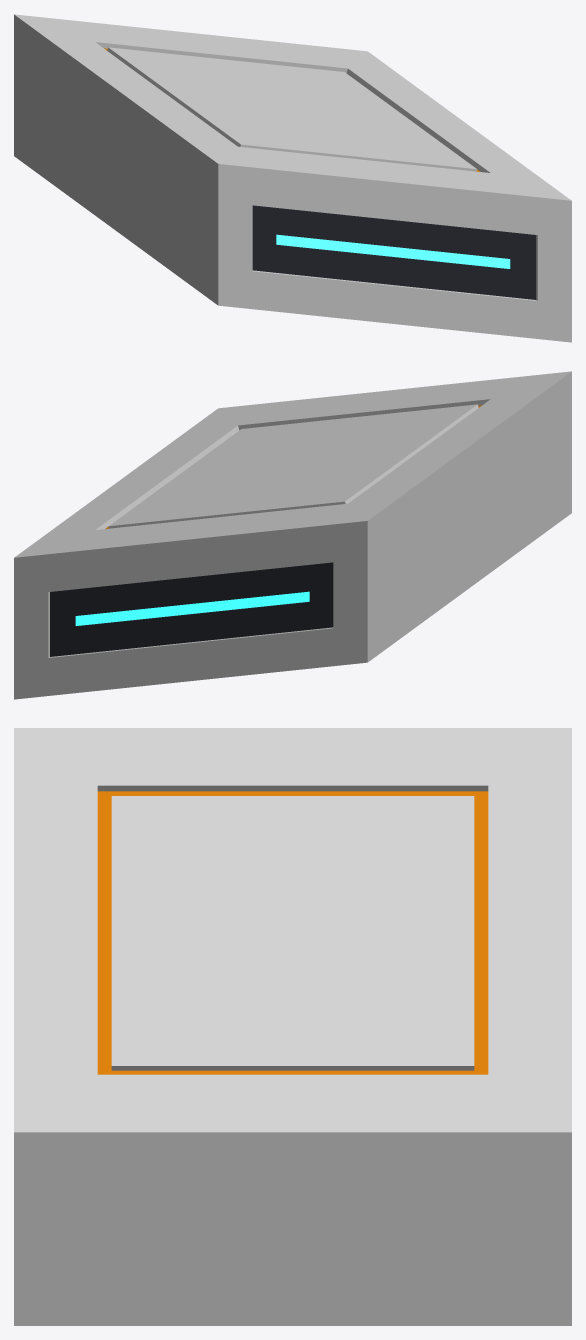
Rendered from SM_Pente_B.glb.
3 renders of one model, top to bottom at view 1: azimuth 30°, elevation 25°; view 2: azimuth 150°, elevation 25°; view 3: azimuth 270°, elevation 25°, orthographic. The views are drawn at different scales.
Visible parts, largest first — view 1: SM_Pente_B; view 2: SM_Pente_B; view 3: SM_Pente_B.
Part boxes in pixels (<box>): SM_Pente_B: <box>14,14,571,342</box>; SM_Pente_B: <box>14,371,571,699</box>; SM_Pente_B: <box>14,728,571,1325</box>.
Size of the model in its own units: 4 by 2.86 by 4.
